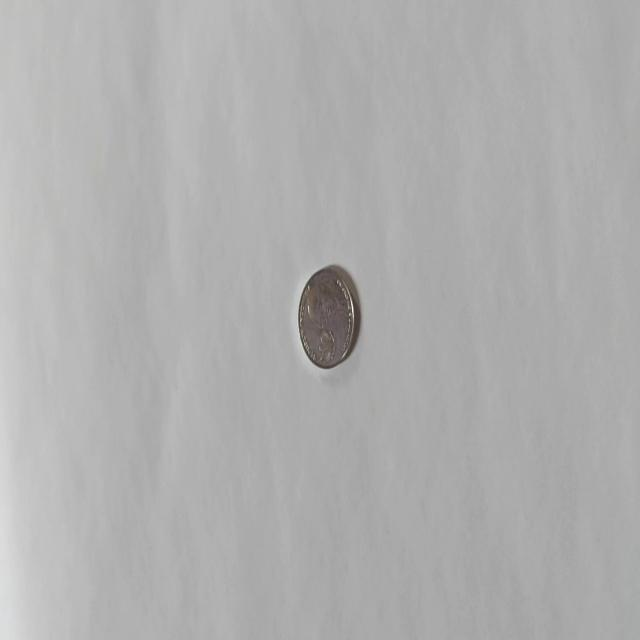lima ratus rupiah: (297, 264, 355, 369)
